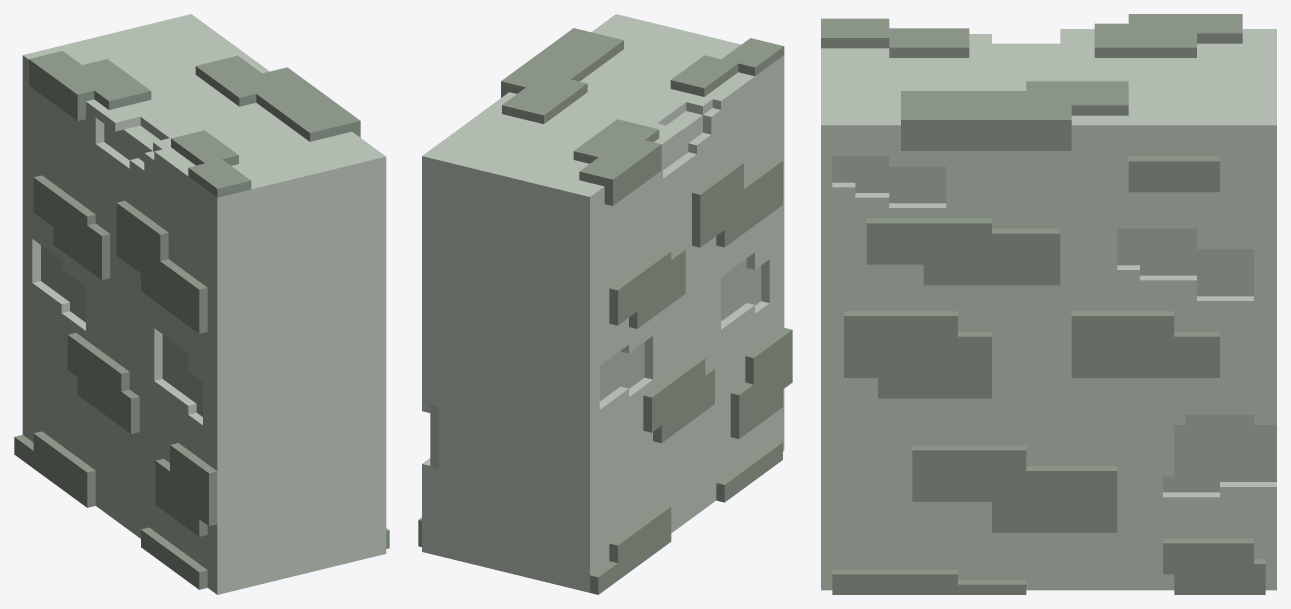
File: WallConnector#1.obj
3 renders of one model, left to right at view 1: azimuth 30°, elevation 25°; view 2: azimuth 150°, elevation 25°; view 3: azimuth 270°, elevation 25°, orthographic. The views are drawn at different scales.
Size of the model in its own units: 2.2 by 4.6 by 4.
Materials: 1 (1 with a texture image).
